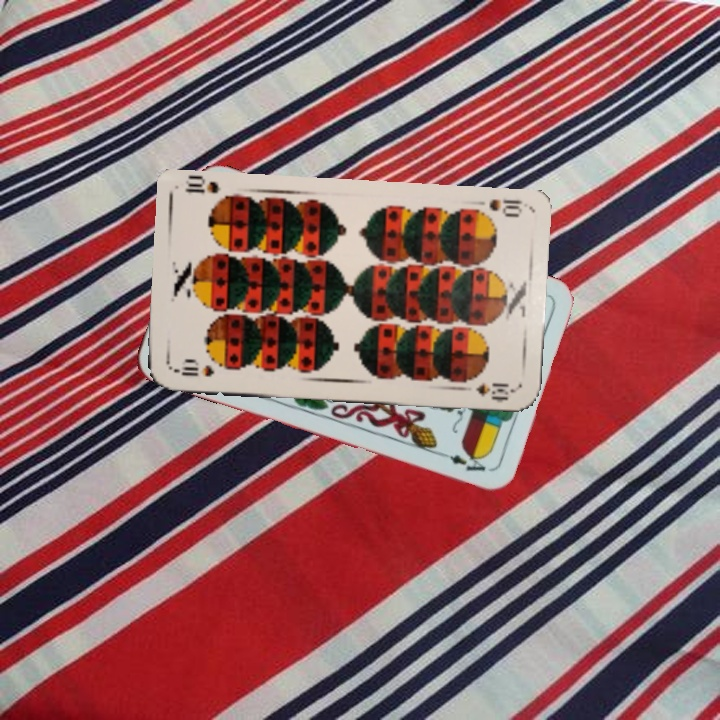S10: (469, 195, 525, 220), (170, 361, 217, 380)
